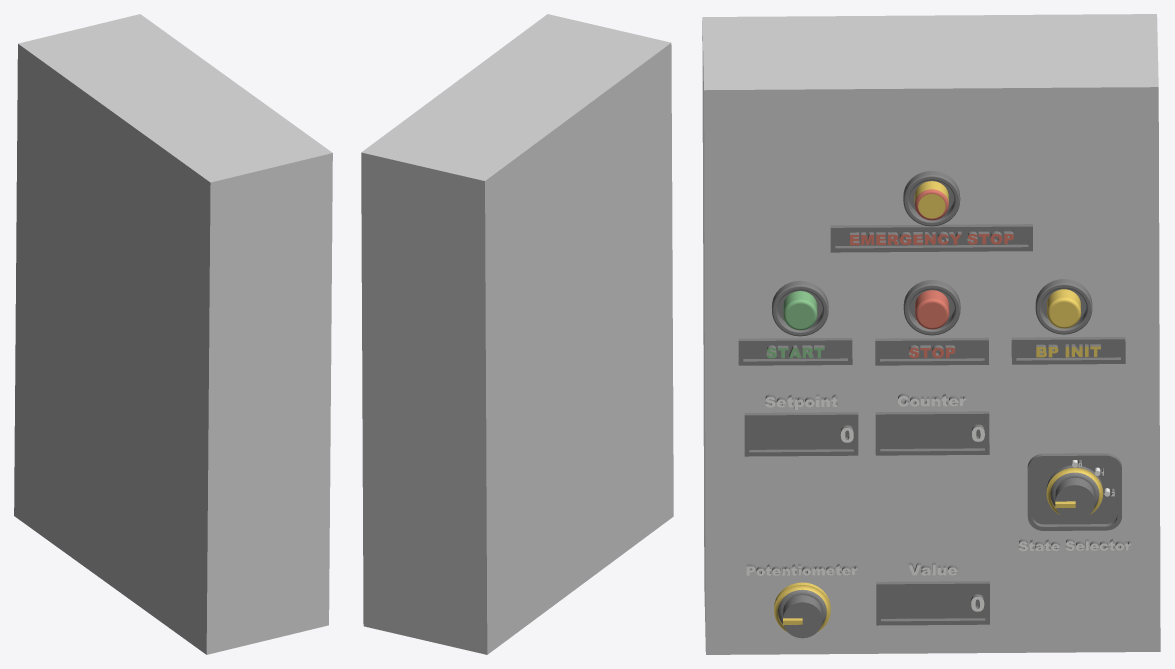
The model's file is Colored_Box.glb.
3 renders of one model, left to right at view 1: azimuth 30°, elevation 25°; view 2: azimuth 150°, elevation 25°; view 3: azimuth 270°, elevation 25°, orthographic. The views are drawn at different scales.
Visible parts, largest first — view 1: Body1; view 2: Body1; view 3: Body1.
Part boxes in pixels (bbox=[...]): Body1: bbox=[14, 14, 332, 654]; Body1: bbox=[361, 14, 673, 654]; Body1: bbox=[702, 14, 1160, 654].
Size of the model in its own units: 0.0917 by 0.2761 by 0.2015.
